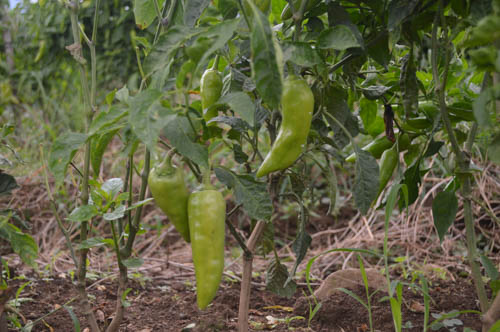ChiliPepper: (259, 78, 313, 177), (184, 193, 225, 311), (150, 170, 186, 241), (342, 131, 409, 164), (194, 69, 226, 125), (375, 149, 398, 198)
